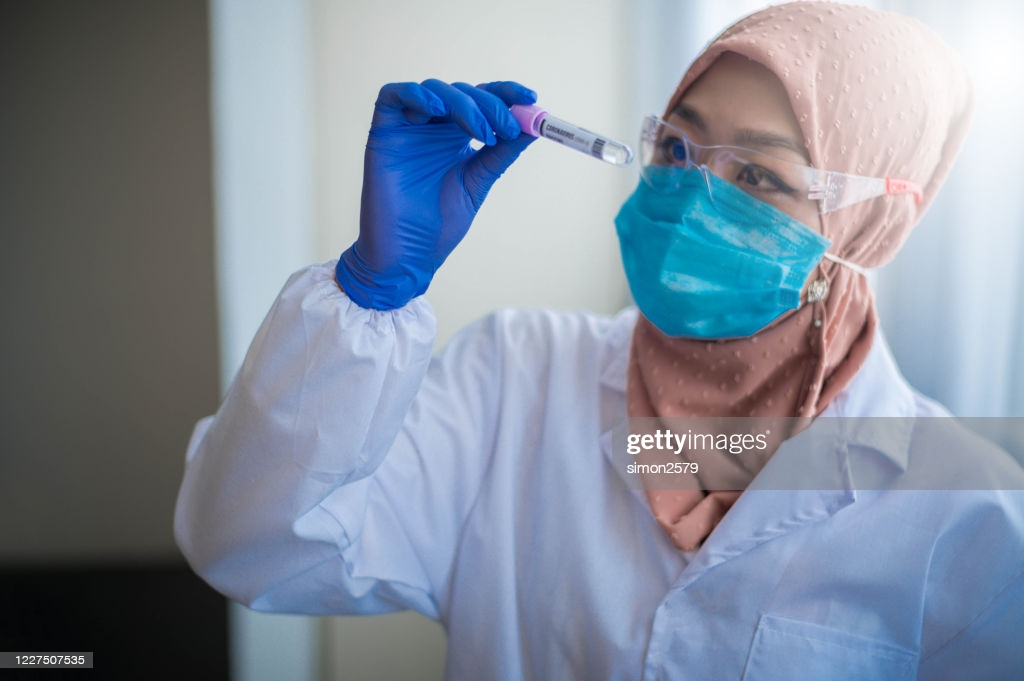Gloves: (331, 71, 544, 319)
Goggles: (626, 108, 890, 222)
with_mask: (621, 112, 815, 329)
